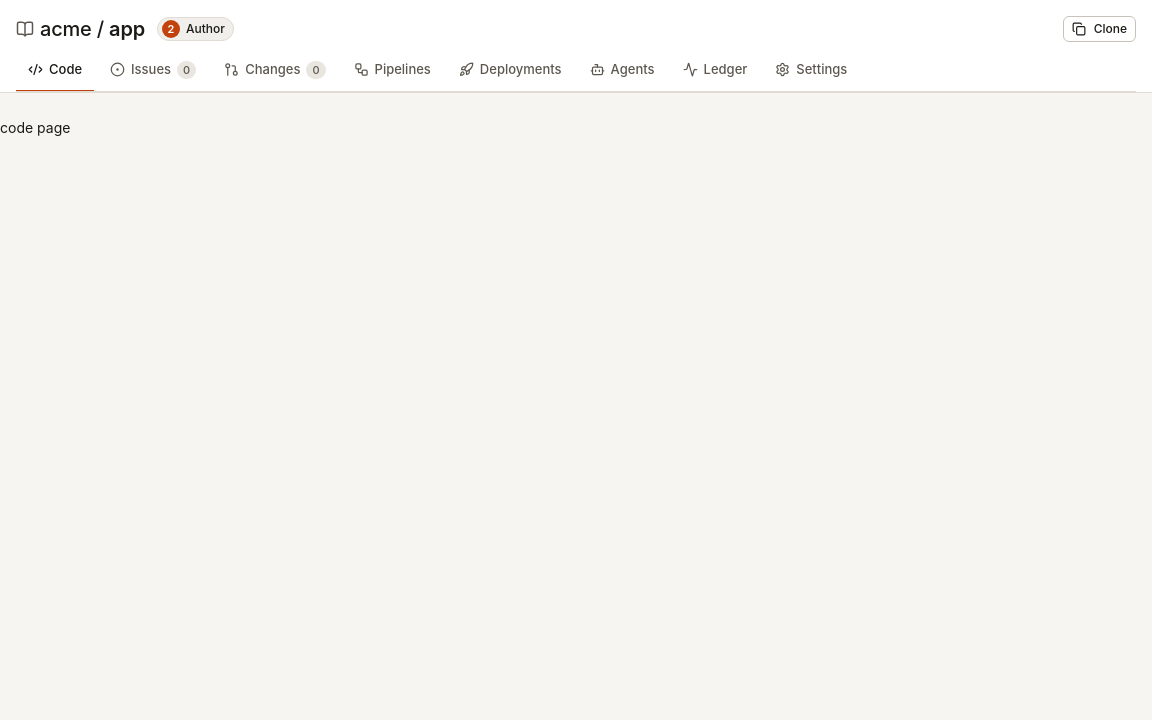
Test case: RepoLayout clone dialog follows the git transport mode › on: git clone over HTTPS and SSH, no Ore client notice
This screenshot has width=1152, height=720.
Click the button "Clone": (1099, 29) [1063, 16, 1136, 42]
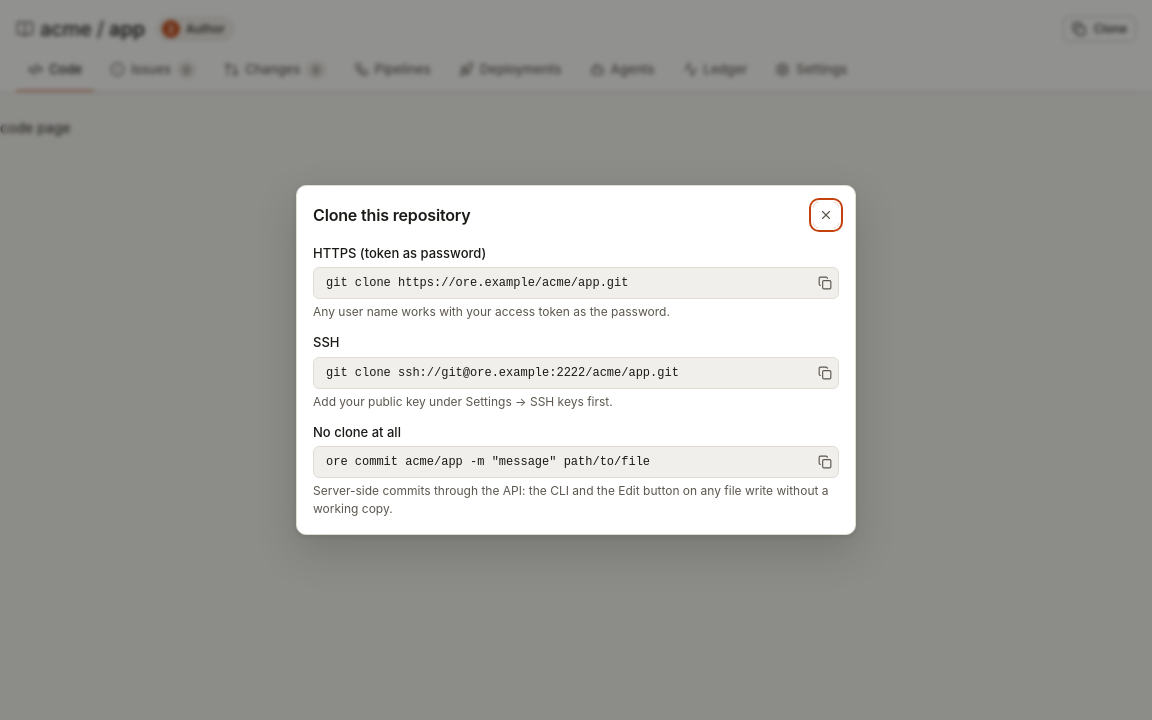
Expected: the heading "Clone this repository" is shown, [313, 205, 470, 225]
Expected: the text "git clone https://ore.example/acme/app.git" is shown, [326, 276, 628, 290]
Expected: the text "git clone ssh://git@ore.example:2222/acme/app.git" is shown, [326, 366, 679, 380]
